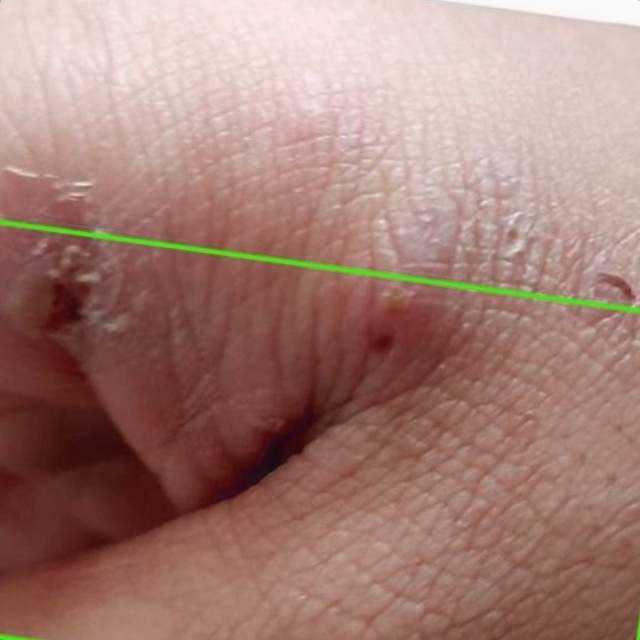Scabies: (0, 222, 639, 639)
